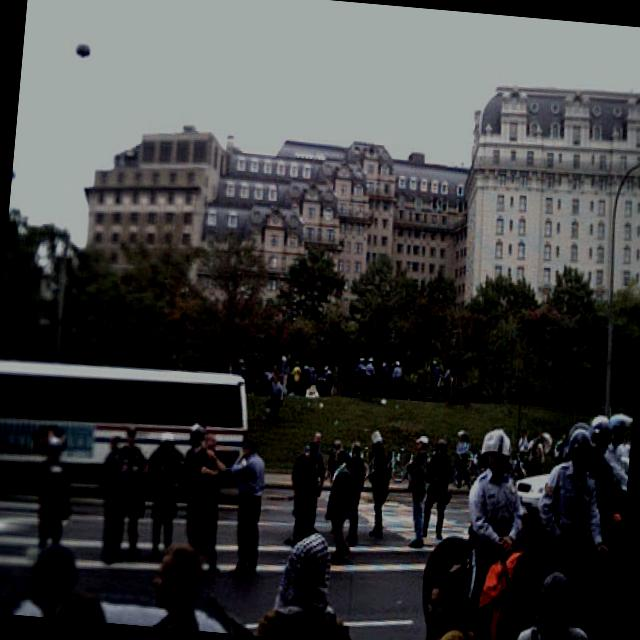Vehicle: (0, 351, 253, 509), (513, 442, 630, 519), (98, 598, 248, 635)
